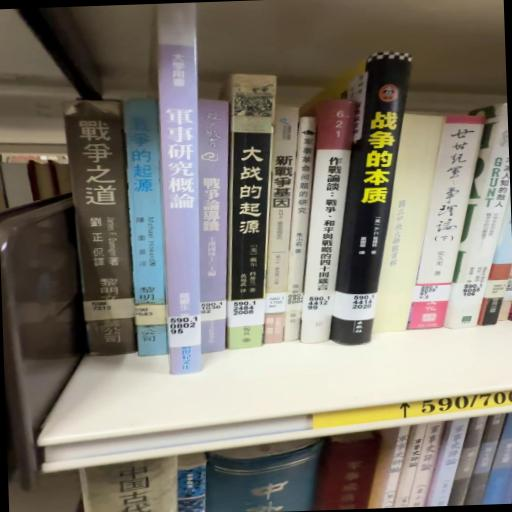backward: (372, 112, 443, 334)
book: (317, 52, 419, 346), (401, 110, 491, 331), (66, 97, 138, 358), (218, 75, 284, 354), (364, 116, 445, 336), (297, 102, 365, 348), (121, 98, 169, 362), (195, 100, 239, 362)
